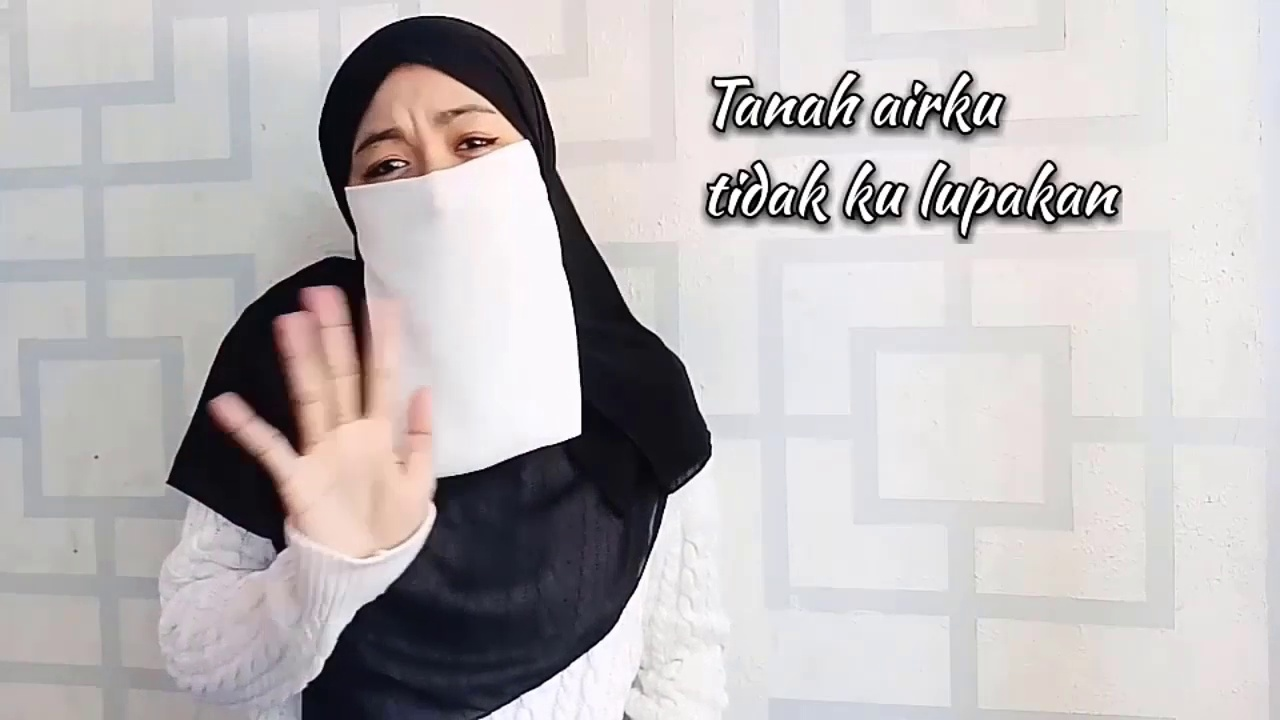TIDAK: (170, 279, 460, 719)
